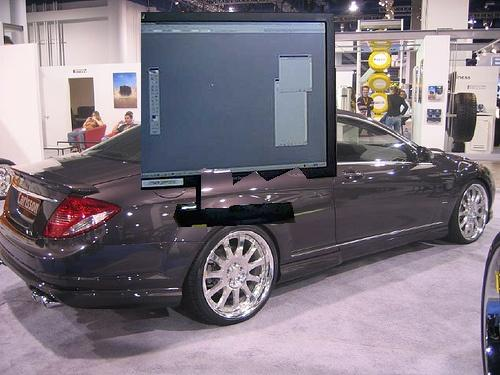tampered: (142, 13, 337, 227)
